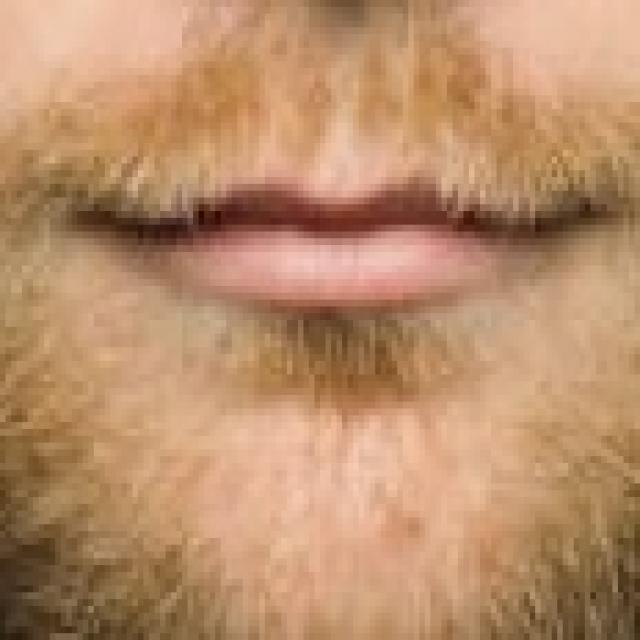closed-mouth: (61, 164, 618, 314)
